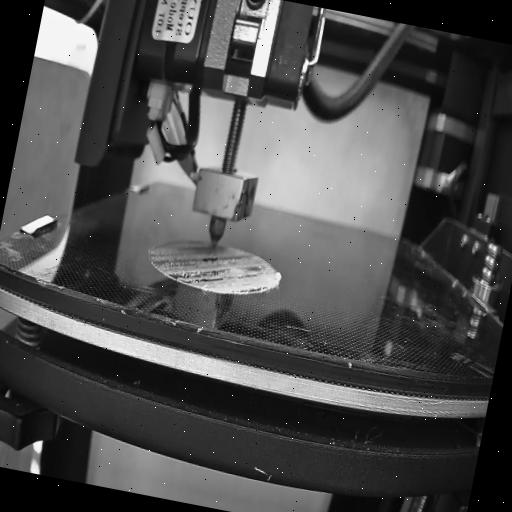under_extrusion: (149, 240, 238, 288), (238, 259, 274, 297)
